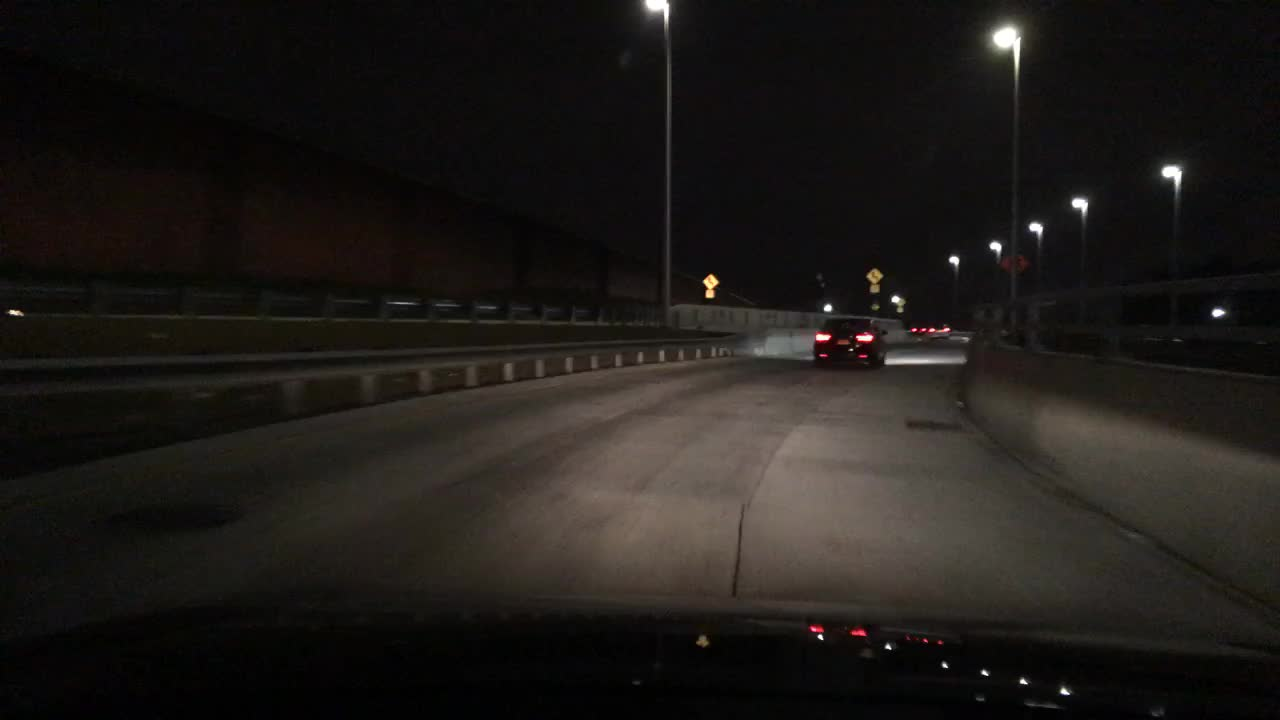car: (812, 315, 888, 367), (926, 321, 951, 340), (909, 324, 925, 333)
traffic sign: (1000, 249, 1031, 278), (865, 266, 883, 293), (703, 272, 719, 296)
